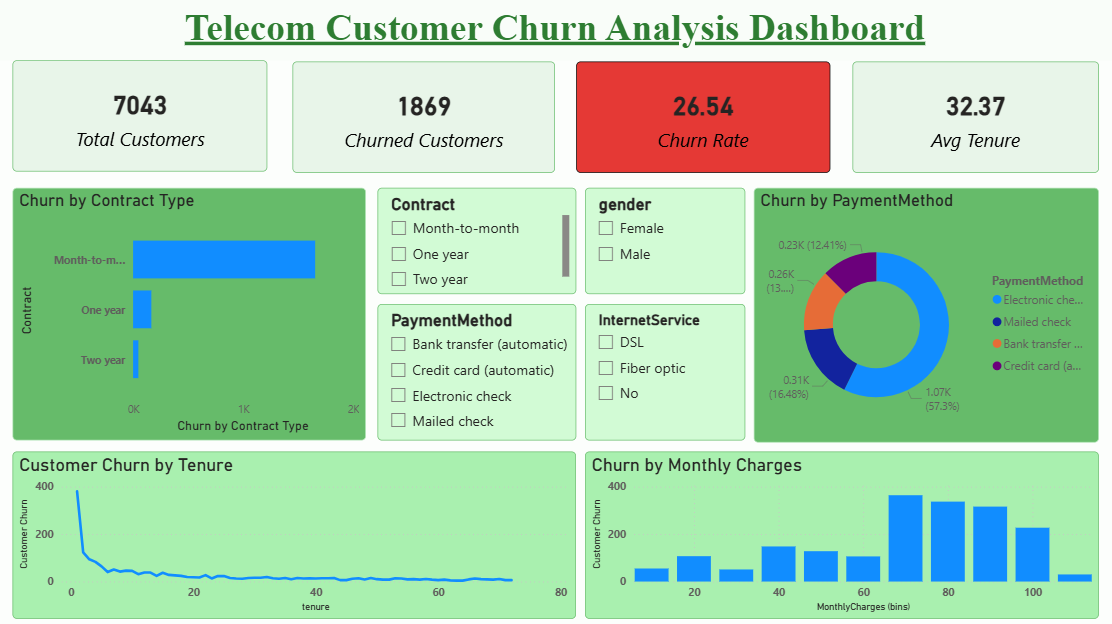

The page's visual inventory and layout, read from the dashboard file:
{"tool":"powerbi","page":{"name":"Page 1","canvas":[1280,720],"ordinal":0},"visuals":[{"type":"card","fields":{"Values":["WA_Fn-UseC_-Telco-Customer-Churn.Churn Rate"]},"box":[664.3,71.4,290,127.1],"z":0},{"type":"clusteredBarChart","title":"Churn by Contract Type ","fields":{"Category":["WA_Fn-UseC_-Telco-Customer-Churn.Contract"],"Y":["CountNonNull(WA_Fn-UseC_-Telco-Customer-Churn.customerID)"]},"box":[20,215.7,404.3,288.6],"z":1000},{"type":"slicer","fields":{"Values":["WA_Fn-UseC_-Telco-Customer-Churn.Contract"]},"box":[437.1,215.7,227.1,121.4],"z":2000},{"type":"slicer","fields":{"Values":["WA_Fn-UseC_-Telco-Customer-Churn.InternetService"]},"box":[674.3,348.6,182.9,155.7],"z":3000},{"type":"slicer","fields":{"Values":["WA_Fn-UseC_-Telco-Customer-Churn.gender"]},"box":[674.3,215.7,182.9,121.4],"z":4000},{"type":"slicer","fields":{"Values":["WA_Fn-UseC_-Telco-Customer-Churn.PaymentMethod"]},"box":[437.1,348.6,227.1,155.7],"z":5000},{"type":"card","fields":{"Values":["CountNonNull(WA_Fn-UseC_-Telco-Customer-Churn.customerID)"]},"box":[20,70,291.4,127.1],"z":6000},{"type":"card","fields":{"Values":["WA_Fn-UseC_-Telco-Customer-Churn.Churned Customers"]},"box":[340,71.4,300,127.1],"z":7000},{"type":"card","fields":{"Values":["WA_Fn-UseC_-Telco-Customer-Churn.Avg Tenure"]},"box":[980,71.4,281.4,127.1],"z":8000},{"type":"donutChart","title":"Churn by PaymentMethod","fields":{"Category":["WA_Fn-UseC_-Telco-Customer-Churn.PaymentMethod"],"Y":["CountNonNull(WA_Fn-UseC_-Telco-Customer-Churn.customerID)"]},"box":[867.1,215.7,394.3,291.4],"z":9000},{"type":"lineChart","title":"Customer Churn by Tenure","fields":{"Category":["WA_Fn-UseC_-Telco-Customer-Churn.tenure"],"Y":["CountNonNull(WA_Fn-UseC_-Telco-Customer-Churn.customerID)"]},"box":[20,517.1,644.3,191.4],"z":10000},{"type":"textbox","box":[0,0,1280,70],"z":11000},{"type":"clusteredColumnChart","title":"Churn by Monthly Charges","fields":{"Y":["CountNonNull(WA_Fn-UseC_-Telco-Customer-Churn.customerID)"],"Category":["WA_Fn-UseC_-Telco-Customer-Churn.MonthlyCharges (bins)"]},"box":[674.3,517.1,587.1,191.4],"z":12000}]}

Visuals, with their boxes in screenshot pixels (x1, y1, x2, y2), scaled from the page's 1280x720 canvas onto the 1112x624 screenshot:
card - WA_Fn-UseC_-Telco-Customer-Churn.Churn Rate: box=[577, 62, 829, 172]
"Churn by Contract Type " clusteredBarChart: box=[17, 187, 369, 437]
slicer - WA_Fn-UseC_-Telco-Customer-Churn.Contract: box=[380, 187, 577, 292]
slicer - WA_Fn-UseC_-Telco-Customer-Churn.InternetService: box=[586, 302, 745, 437]
slicer - WA_Fn-UseC_-Telco-Customer-Churn.gender: box=[586, 187, 745, 292]
slicer - WA_Fn-UseC_-Telco-Customer-Churn.PaymentMethod: box=[380, 302, 577, 437]
card - CountNonNull(WA_Fn-UseC_-Telco-Customer-Churn.customerID): box=[17, 61, 271, 171]
card - WA_Fn-UseC_-Telco-Customer-Churn.Churned Customers: box=[295, 62, 556, 172]
card - WA_Fn-UseC_-Telco-Customer-Churn.Avg Tenure: box=[851, 62, 1096, 172]
"Churn by PaymentMethod" donutChart: box=[753, 187, 1096, 439]
"Customer Churn by Tenure" lineChart: box=[17, 448, 577, 614]
textbox: box=[0, 0, 1111, 61]
"Churn by Monthly Charges" clusteredColumnChart: box=[586, 448, 1096, 614]
